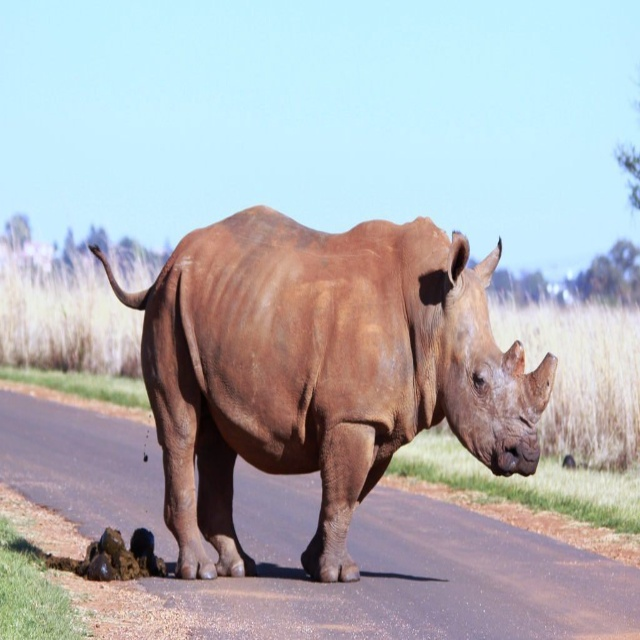Rhinoceros: (84, 208, 561, 582)
